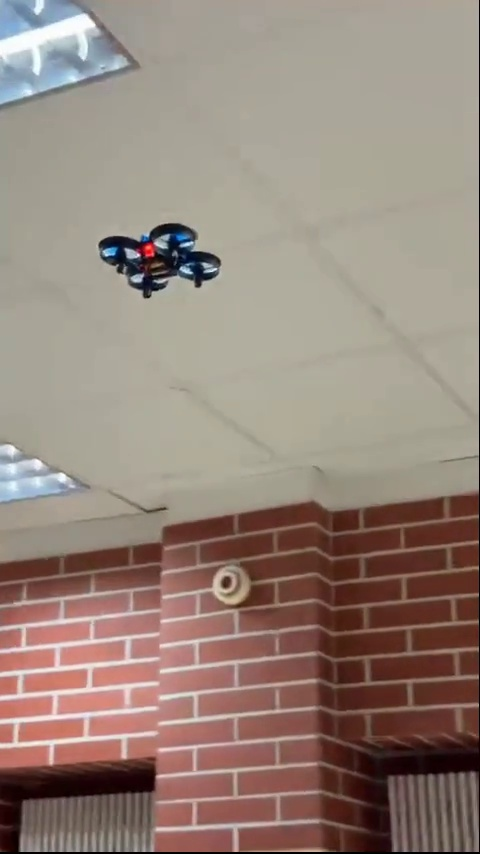drone: (97, 223, 227, 297)
